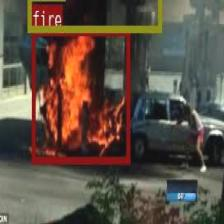fire: (32, 28, 129, 162)
smoke: (26, 0, 161, 30)
